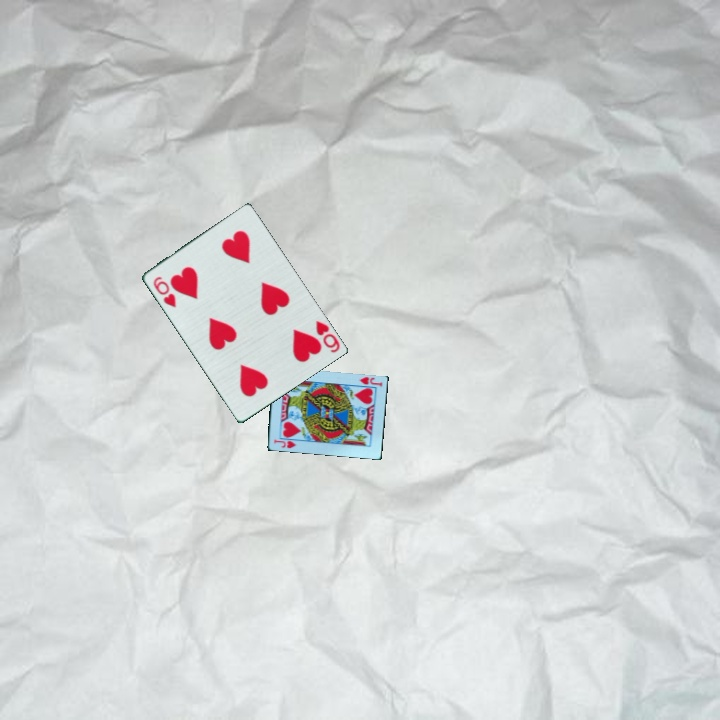6h: (312, 317, 342, 356), (149, 273, 179, 311)
Jh: (270, 436, 299, 451), (356, 374, 385, 389)
